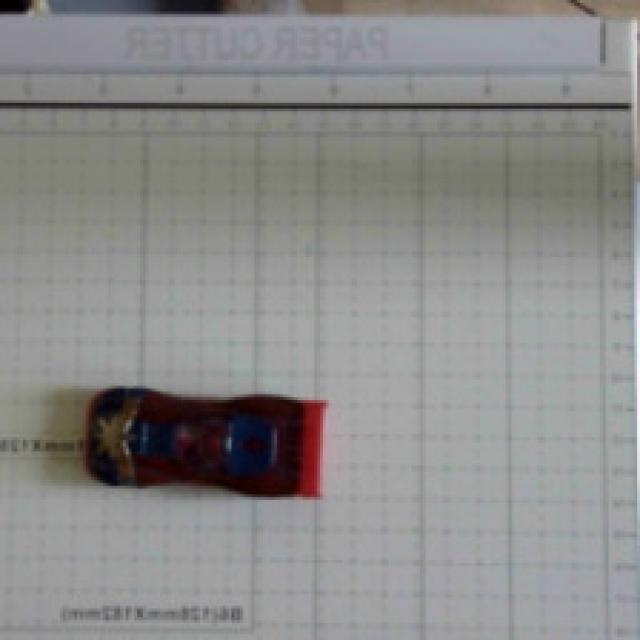Red Car: (43, 367, 401, 550)
